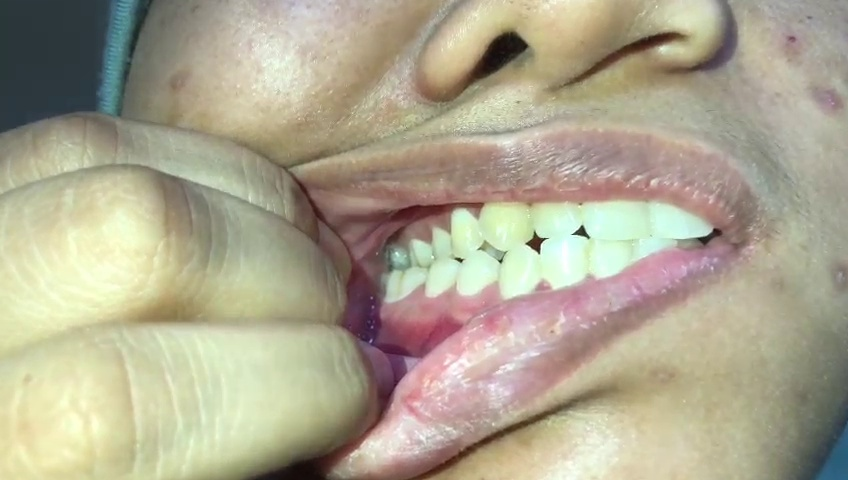1st Molar: (398, 267, 427, 300), (410, 239, 433, 267)
1st Premolar: (456, 251, 498, 302), (450, 208, 486, 257)
2nd Molar: (383, 270, 401, 306), (386, 243, 411, 266)
2nd Premolar: (426, 255, 459, 299), (431, 228, 452, 265)
Canine: (477, 198, 536, 250), (498, 246, 540, 303)
Lateral Incisor: (542, 237, 590, 288)
